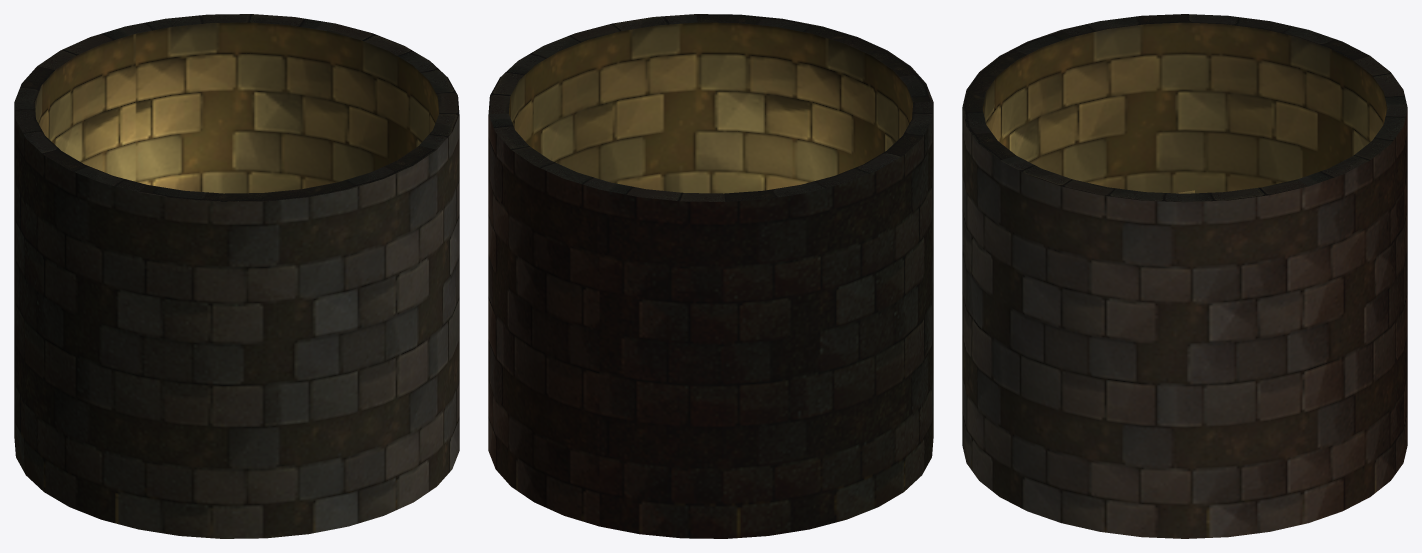
Rendered from SM_ENV_V2 (4).fbx.
3 views of the same model, side by side, from view 1: azimuth 30°, elevation 25°; view 2: azimuth 150°, elevation 25°; view 3: azimuth 270°, elevation 25° (orthographic).
Visible parts, largest first — view 1: SM_ENV_Wall; view 2: SM_ENV_Wall; view 3: SM_ENV_Wall.
Part boxes in pixels (box(x1,y1,x2,y2)): SM_ENV_Wall: box(14, 14, 459, 538); SM_ENV_Wall: box(488, 14, 933, 538); SM_ENV_Wall: box(962, 14, 1407, 538).
Bounding box in the file's own units: 110 × 91.7 × 110.
